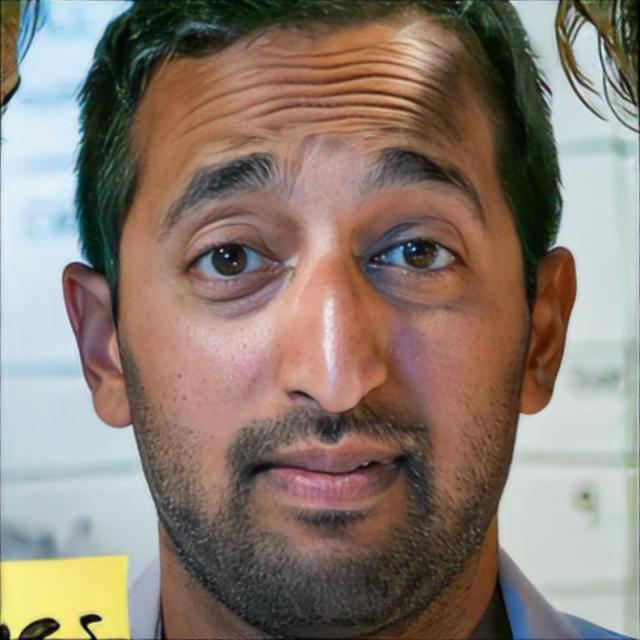surprise: (116, 0, 530, 640)
